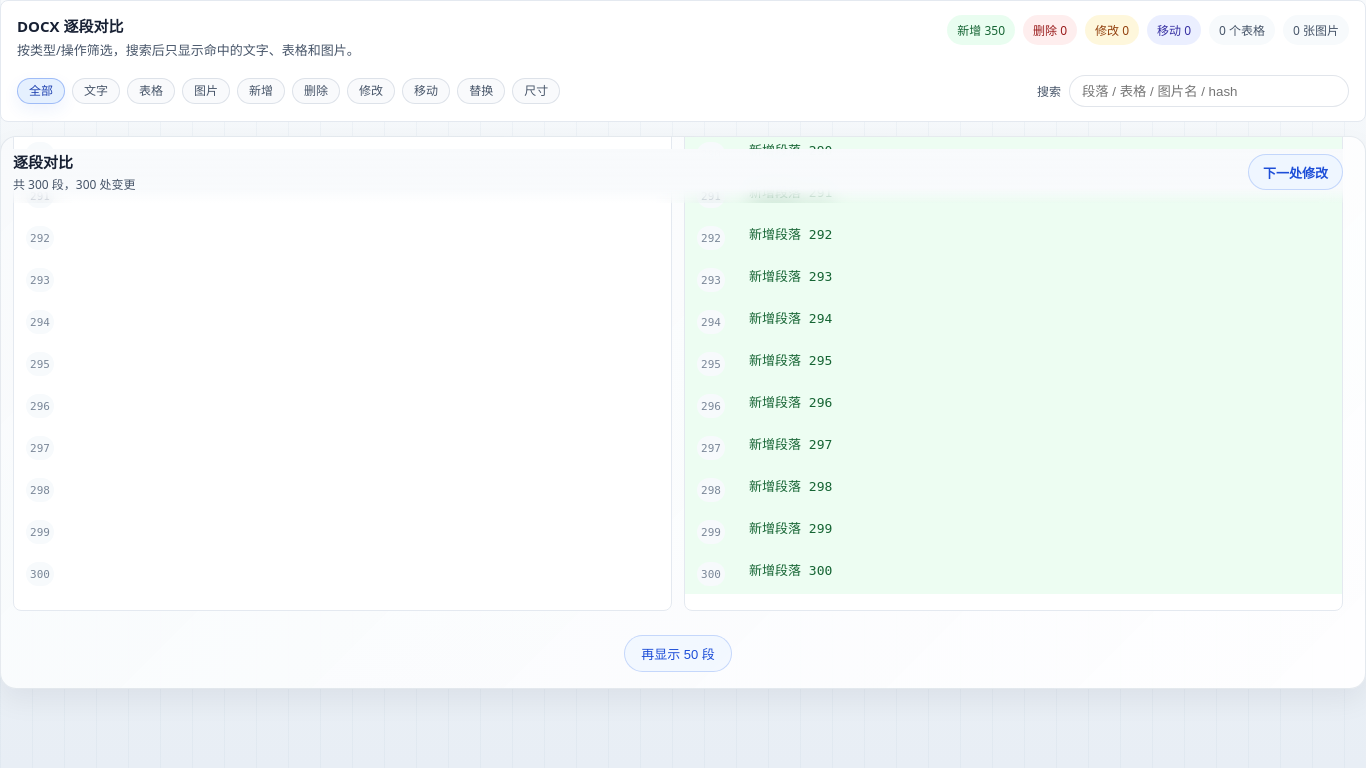
it: DocxDiffView › renders large paragraph diffs in chunks and can load more
(page scrolled)
Click the button with test id "docx-load-more" at (678, 654), box [624,635,732,672]
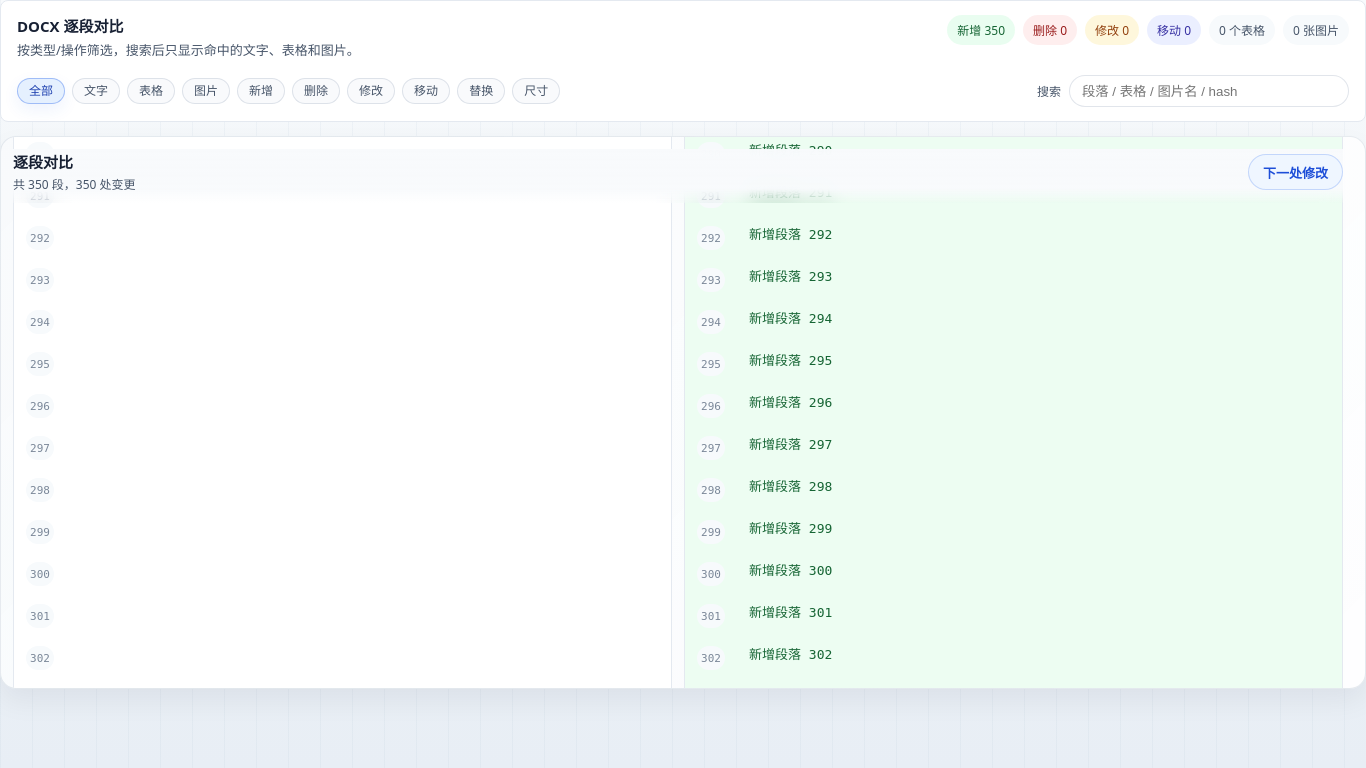
Now the text "再显示 50 段" is gone
